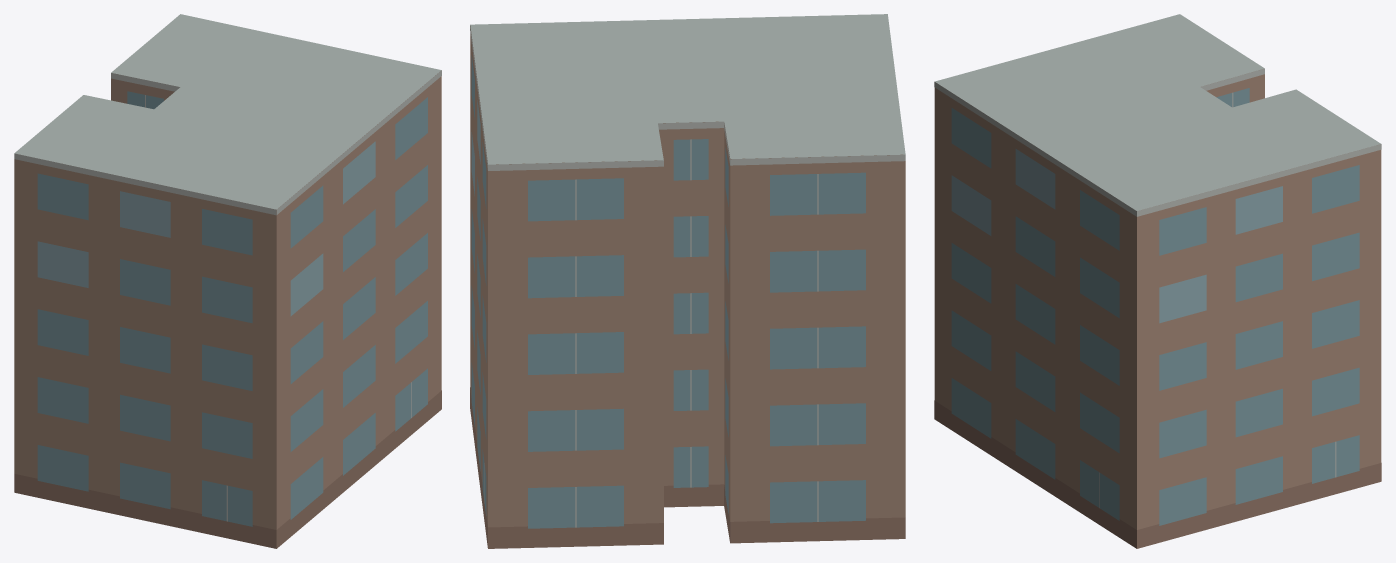
The model's file is survey-upis-32952537.glb.
3 renders of one model, left to right at view 1: azimuth 30°, elevation 25°; view 2: azimuth 150°, elevation 25°; view 3: azimuth 270°, elevation 25°, orthographic. The views are drawn at different scales.
Parts seen in each view (by area): view 1: survey-upis-32952537.tmp; view 2: survey-upis-32952537.tmp; view 3: survey-upis-32952537.tmp.
Boxes of the visible parts, x1,y1,x2,y2 form: survey-upis-32952537.tmp: (14, 14, 441, 548); survey-upis-32952537.tmp: (470, 14, 905, 548); survey-upis-32952537.tmp: (934, 14, 1381, 548).
Size of the model in its own units: 18.17 by 14.5 by 17.4.
